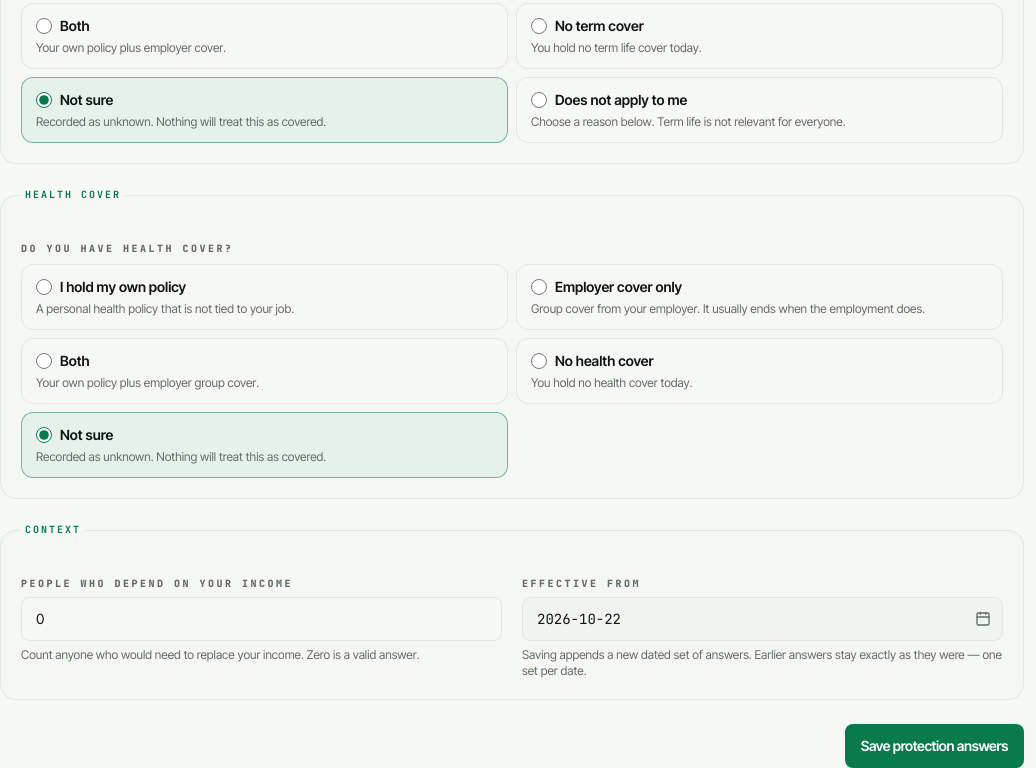
it: ProtectionProfileForm submission › lands a duplicate effective date on the date field
The image size is (1036, 768).
(page scrolled)
Click the button "Save protection answers": [934, 746] box 845,724 -> 1024,767
(page scrolled)
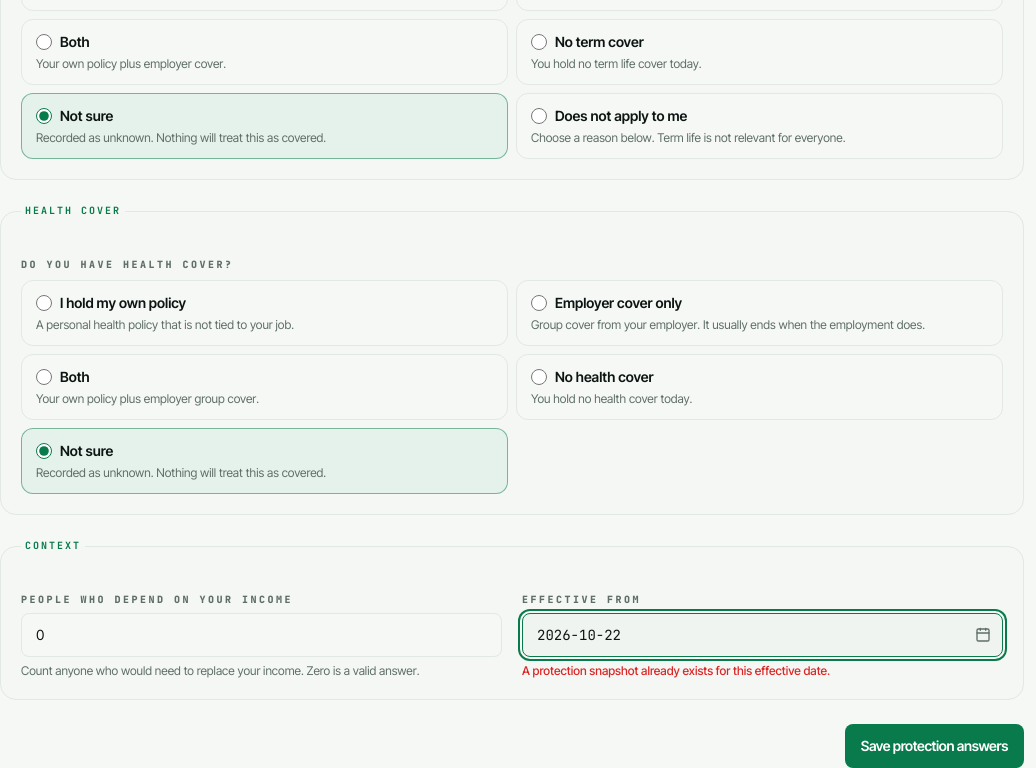
Now the text "A protection snapshot already exists for this effective date." is shown, box 522,663 -> 830,678
